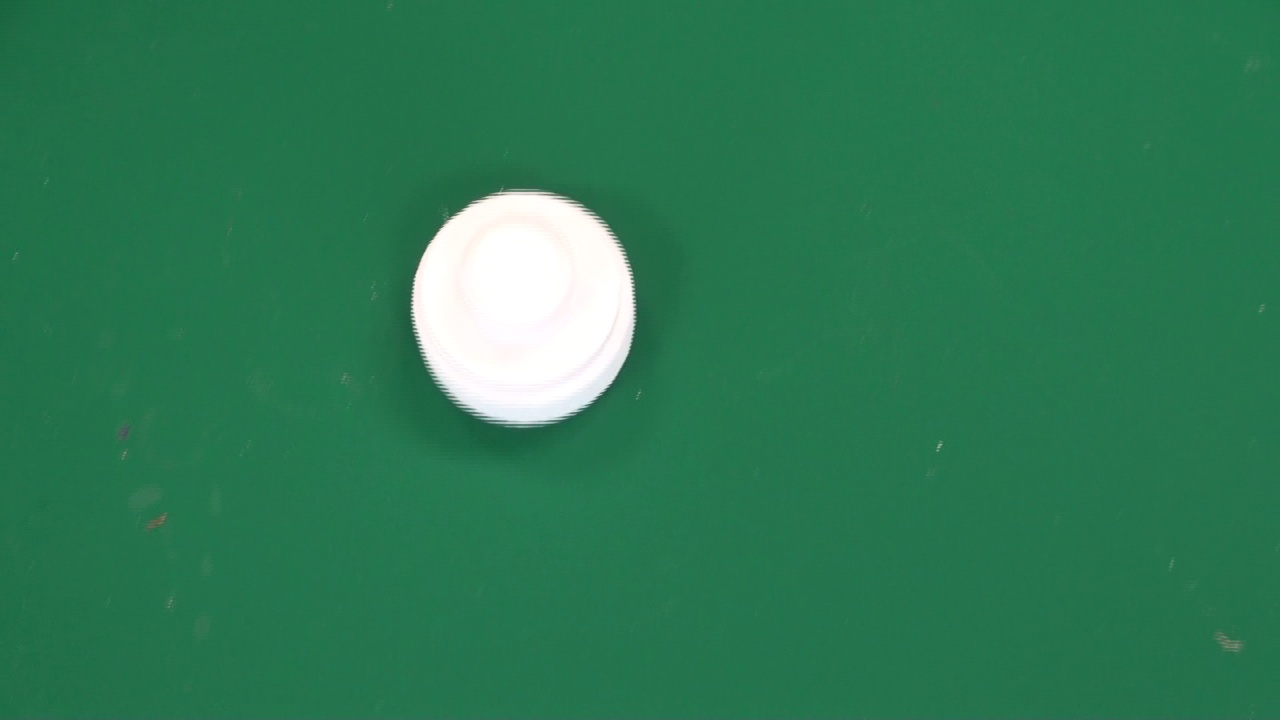breather_plug: (410, 192, 637, 429)
